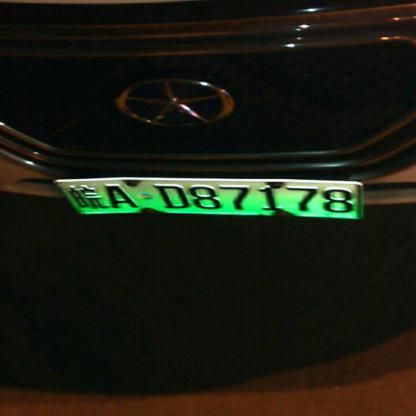lp: (57, 182, 81, 218)
